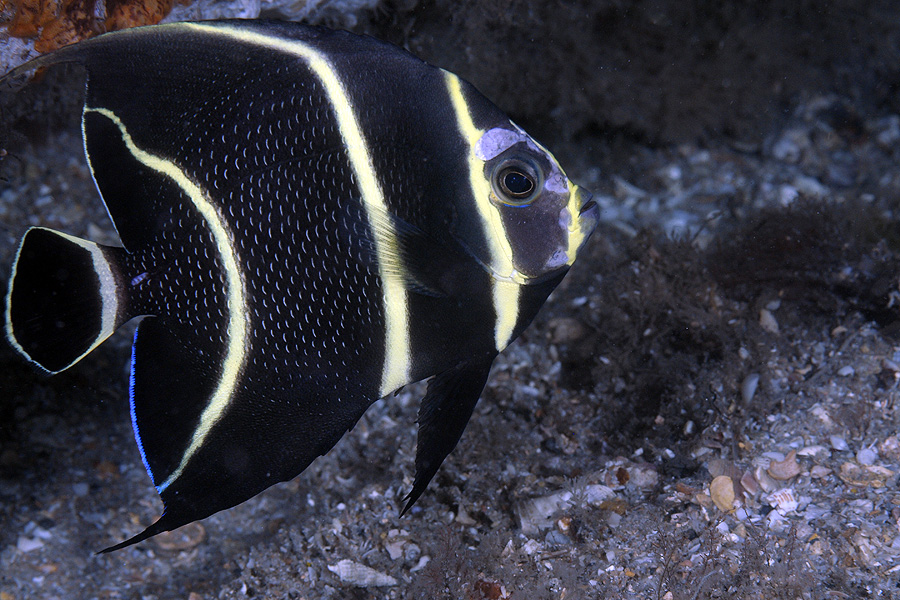Pomacanthus_paru: (5, 7, 611, 558)
